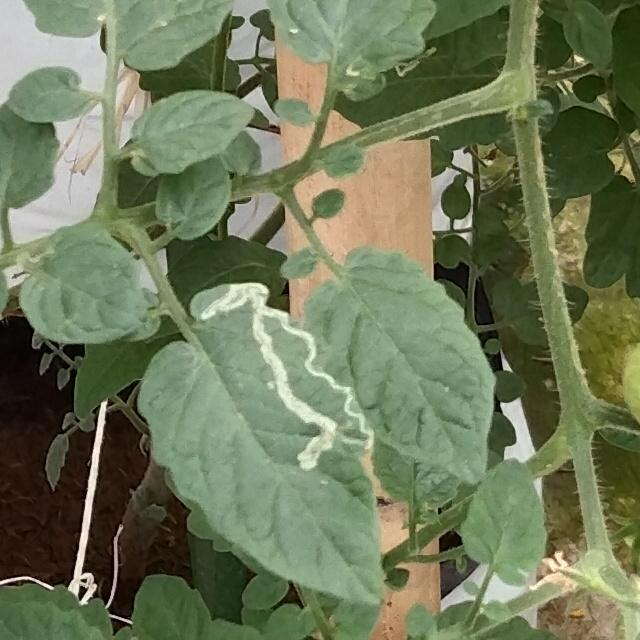Healthy: (307, 243, 497, 492), (12, 222, 147, 350), (457, 454, 547, 587), (581, 175, 640, 289), (5, 64, 95, 125)
Leaf_Miner: (135, 278, 390, 610)
